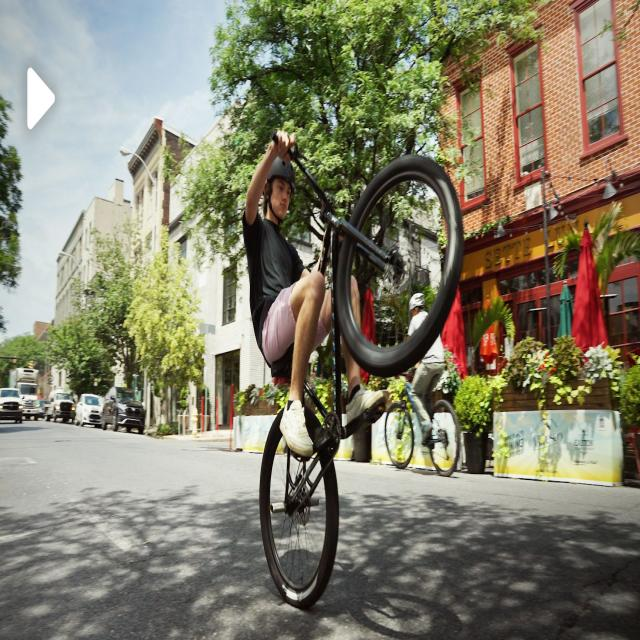Wheeling: (255, 51, 478, 640)
